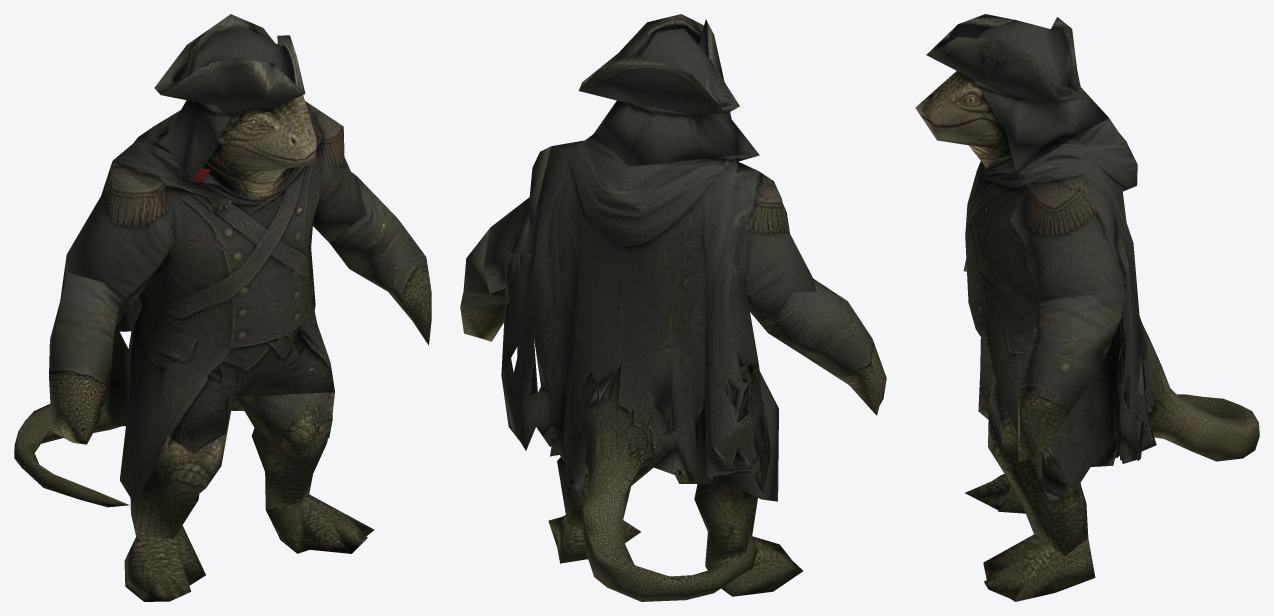
File: infantry_atk_gibs.glb
The picture shows the model from 3 angles, left to right: view 1: azimuth 30°, elevation 25°; view 2: azimuth 150°, elevation 25°; view 3: azimuth 270°, elevation 25°; orthographic projection.
Parts seen in each view (by area): view 1: Body.001, Head.001, Hat.001, Forarm.R.001, Arm.R.001, Upleg.L.001, Forarm.L.001, Upleg.R.001, Leg.R.001, Leg.L.001, Arm.L.001; view 2: Body.001, Hat.001, Forarm.R.001, Head.001, Arm.R.001, Upleg.R.001, Arm.L.001, Forarm.L.001, Leg.R.001, Leg.L.001, Upleg.L.001; view 3: Body.001, Arm.L.001, Head.001, Forarm.L.001, Hat.001, Upleg.L.001, Leg.L.001, Leg.R.001, Upleg.R.001.
Part boxes in pixels (x1,y1,x2,y2): Body.001: (14,106,334,507); Head.001: (163,95,316,194); Hat.001: (154,14,305,119); Forarm.R.001: (49,256,130,444); Arm.R.001: (66,161,174,305); Upleg.L.001: (237,392,334,509); Forarm.L.001: (330,177,431,345); Upleg.R.001: (130,401,232,538); Leg.R.001: (124,525,205,601); Leg.L.001: (266,494,374,553); Arm.L.001: (305,101,365,243); Body.001: (501,134,778,601); Hat.001: (579,14,739,113); Forarm.R.001: (768,278,886,415); Head.001: (593,100,759,165); Arm.R.001: (746,181,816,332); Upleg.R.001: (694,483,757,565); Arm.L.001: (483,146,551,293); Forarm.L.001: (460,228,505,341); Leg.R.001: (705,536,802,596); Leg.L.001: (548,515,640,563); Upleg.L.001: (557,457,588,528); Body.001: (965,118,1259,502); Arm.L.001: (1010,173,1128,315); Head.001: (915,71,1108,173); Forarm.L.001: (1018,295,1121,461); Hat.001: (926,14,1082,102); Upleg.L.001: (988,400,1088,555); Leg.L.001: (983,534,1095,601); Leg.R.001: (965,474,1025,513); Upleg.R.001: (978,373,1080,483).
Size of the model in its own units: 0.7645 by 0.9667 by 0.5768.
Materials: 2 (1 with a texture image).
